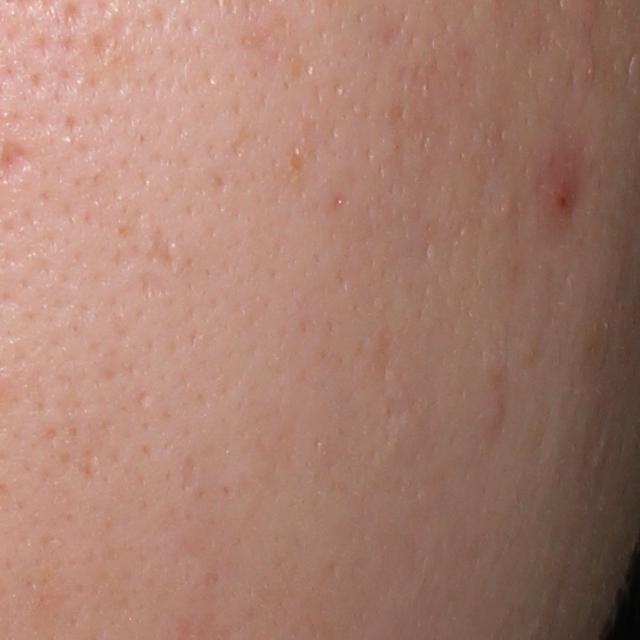atrophic_scar: (145, 224, 179, 276), (179, 449, 202, 493)
papule: (544, 173, 576, 219)
